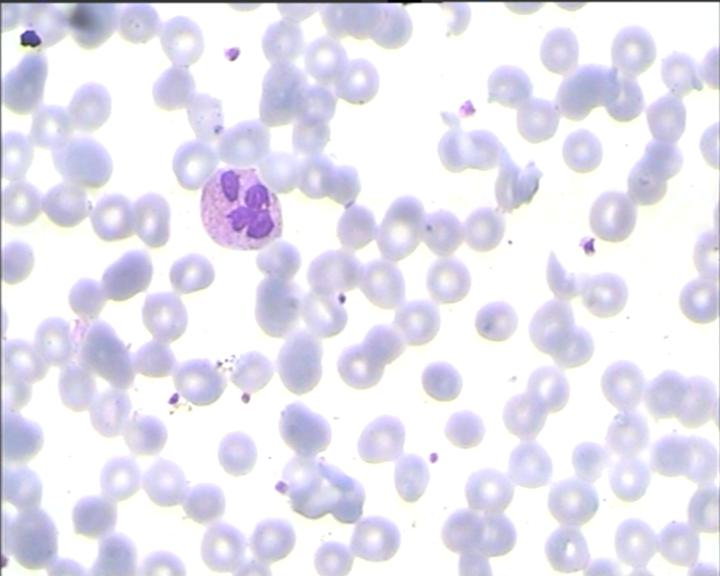neut: (199, 162, 285, 251)
